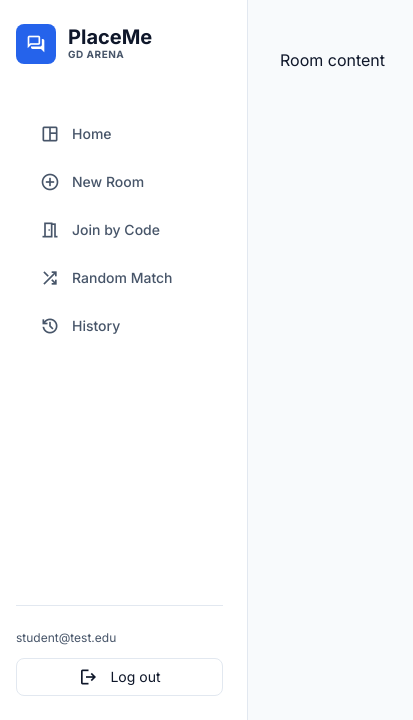
AppShell navigation guard › navigates immediately with no confirmation when no session is in progress
Click the link "History" at [80, 326], box [40, 314, 120, 338]
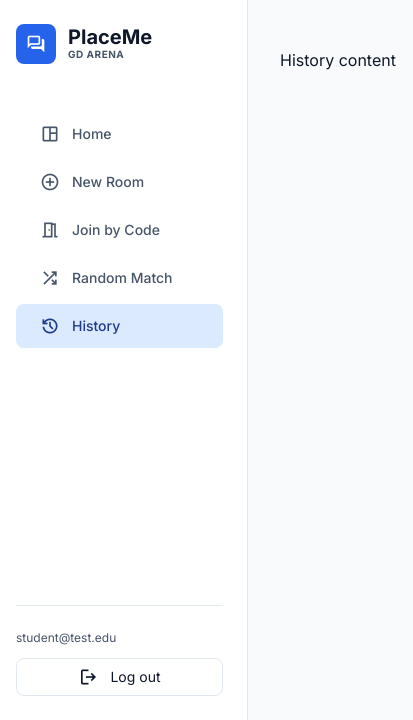
Result: the text "History content" is shown at [280, 50, 396, 70]
